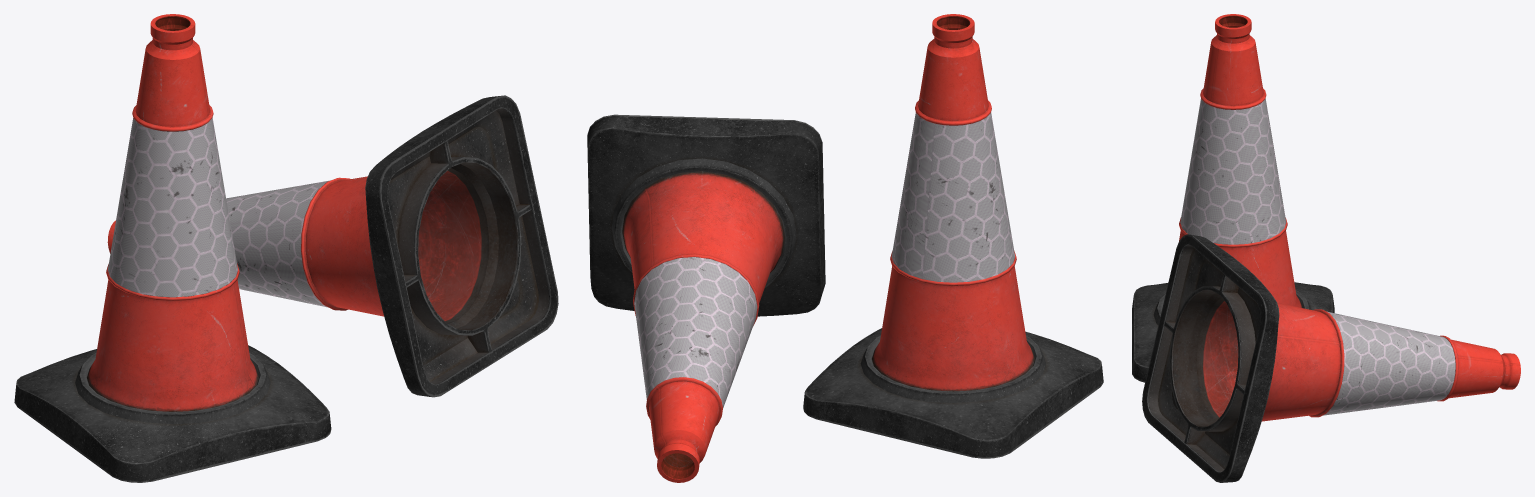
File: dirty_traffic_cone.glb
3 renders of one model, left to right at view 1: azimuth 30°, elevation 25°; view 2: azimuth 150°, elevation 25°; view 3: azimuth 270°, elevation 25°, orthographic. The views are drawn at different scales.
Parts seen in each view (by area): view 1: TrafficCone_L8; view 2: TrafficCone_L8; view 3: TrafficCone_L8.
Boxes of the visible parts, x1=… form: TrafficCone_L8: x1=14, y1=14, x2=558, y2=482; TrafficCone_L8: x1=587, y1=14, x2=1103, y2=482; TrafficCone_L8: x1=1132, y1=14, x2=1520, y2=482.
Bounding box in the file's own units: 0.6405 × 0.4886 × 0.5387.
Materials: 1 (1 with a texture image).
